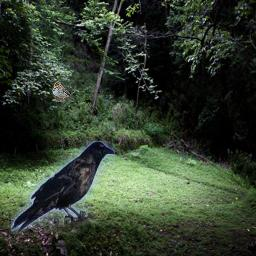Crow: (11, 141, 115, 234)
Sparrow: (52, 81, 74, 102)
